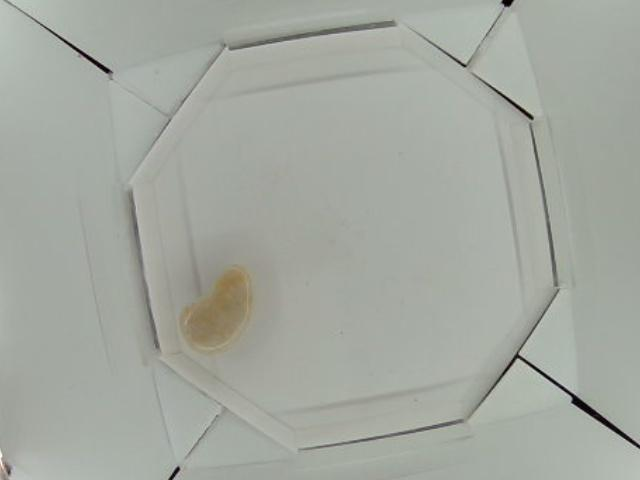Pebble: (180, 269, 250, 356)
